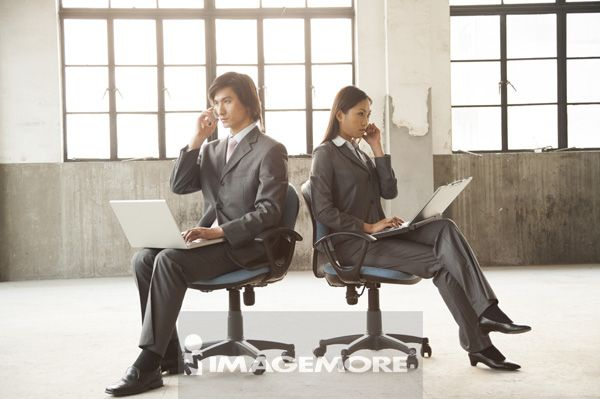talk: (196, 94, 235, 139), (355, 105, 381, 148)
